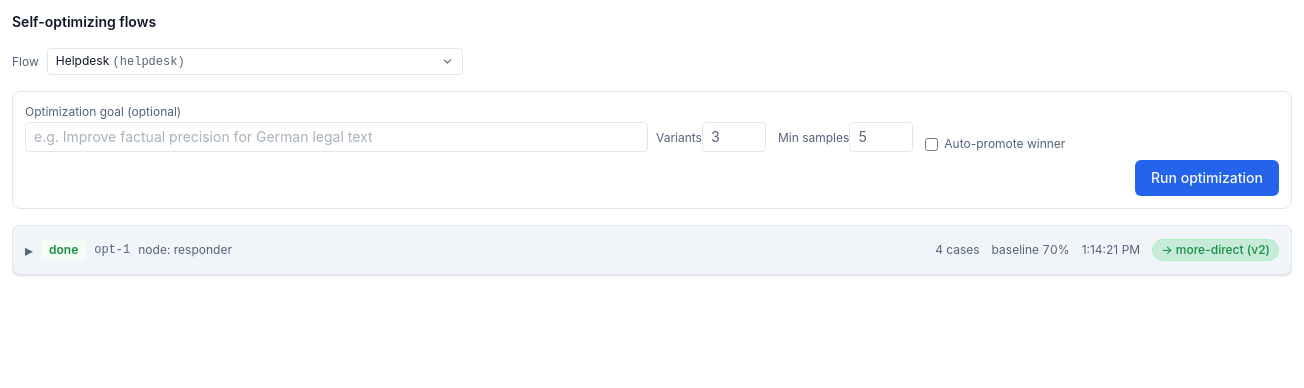
Test: OptimizerPanel › does not show Promote once a variant was already promoted
What coordinates should you click on to do the following:
click the text "done"
I would click on:
 (64, 250)
Its box is [41,240,86,260].
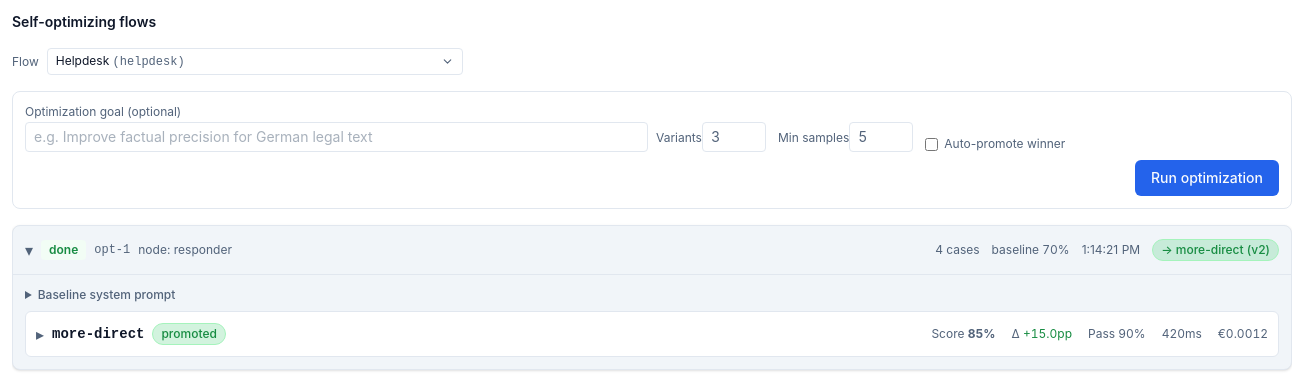
Result: the text "promoted" is shown at [152,323,226,345]
